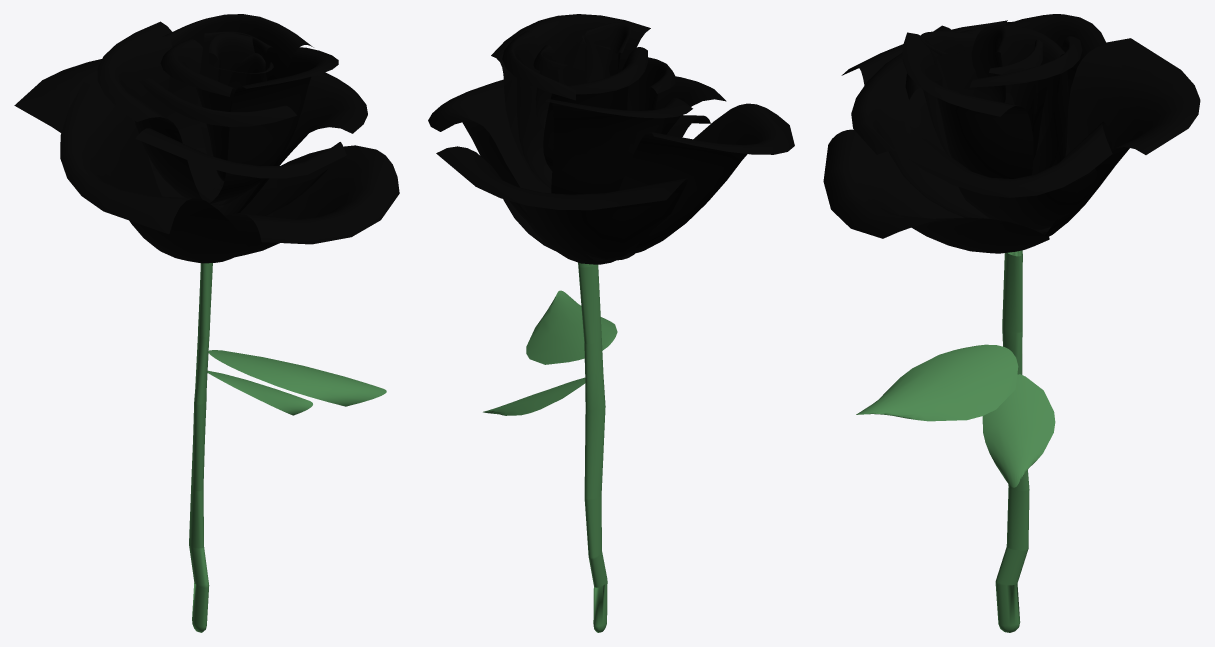
File: black-rose.glb
3 renders of one model, left to right at view 1: azimuth 30°, elevation 25°; view 2: azimuth 150°, elevation 25°; view 3: azimuth 270°, elevation 25°, orthographic. The views are drawn at different scales.
Parts seen in each view (by area): view 1: Object_3, Object_4; view 2: Object_3, Object_4; view 3: Object_3, Object_4.
Boxes of the visible parts, x1=… form: Object_3: x1=14, y1=14, x2=399, y2=263; Object_4: x1=189, y1=263, x2=386, y2=632; Object_3: x1=428, y1=14, x2=794, y2=264; Object_4: x1=483, y1=262, x2=617, y2=632; Object_3: x1=823, y1=14, x2=1200, y2=253; Object_4: x1=856, y1=250, x2=1055, y2=632.
Bounding box in the file's own units: 0.2281 × 0.4131 × 0.2297.
